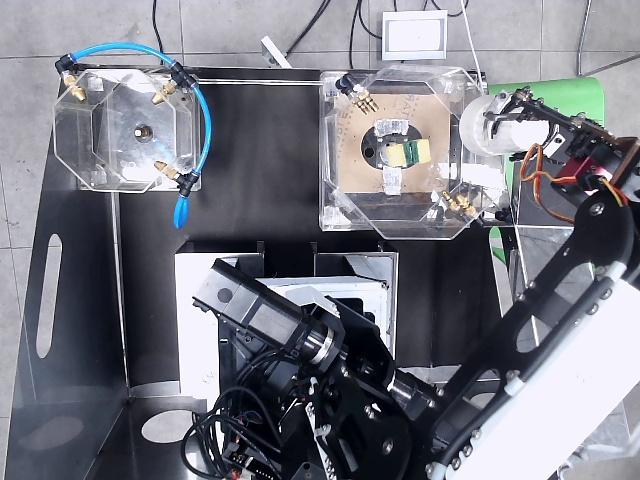cup: (460, 90, 549, 155)
